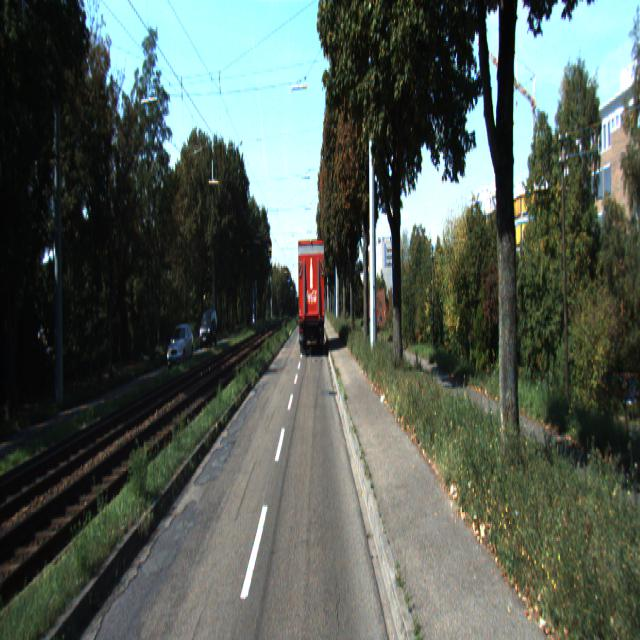Car: (296, 238, 326, 358), (166, 323, 195, 373), (199, 310, 218, 352)
